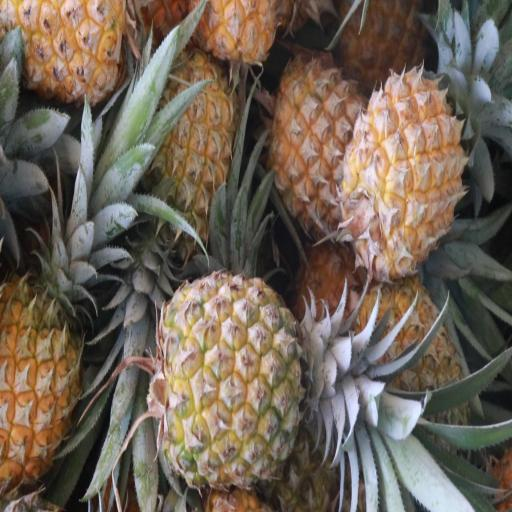------------------------------: (158, 276, 309, 483), (350, 284, 465, 454), (269, 68, 363, 249)
Pineapple - v8 v1: (344, 71, 463, 272), (146, 51, 238, 250), (0, 276, 85, 490), (0, 0, 126, 106)
